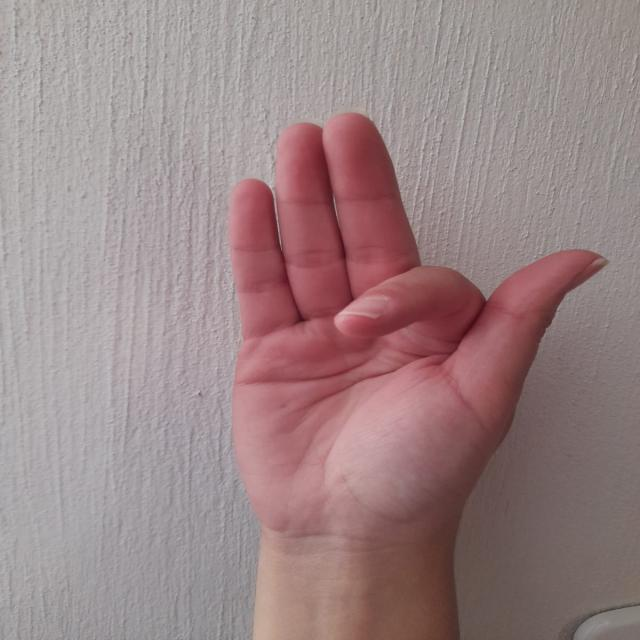F: (187, 104, 624, 580)
